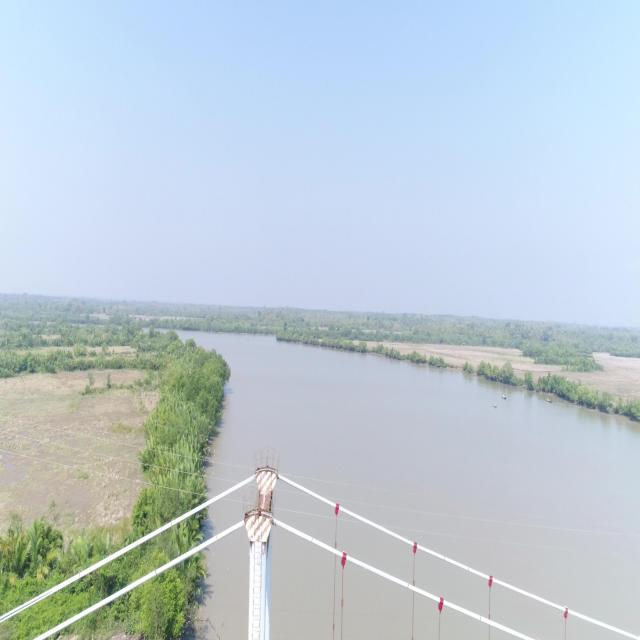crack: (216, 535, 218, 541), (311, 537, 313, 543), (155, 570, 157, 576), (407, 583, 409, 589), (170, 521, 172, 526), (480, 616, 481, 621), (468, 567, 469, 571), (444, 556, 444, 560), (80, 573, 80, 578)
